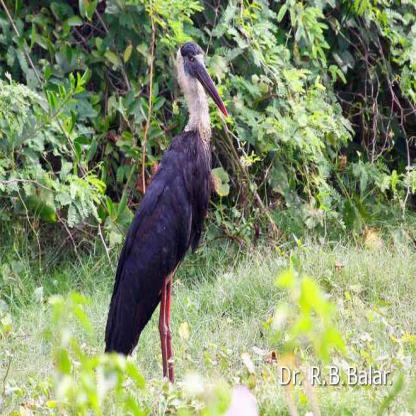Burung: (100, 38, 228, 395)
